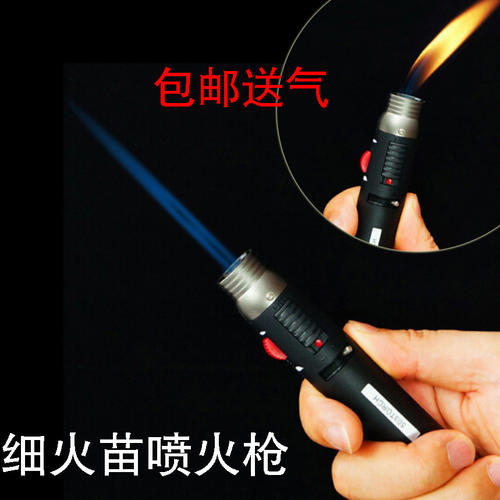fire: (82, 114, 252, 291), (394, 3, 488, 93)
